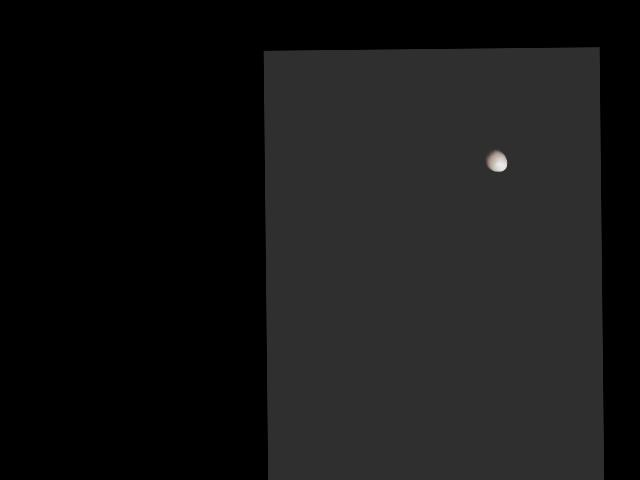egg: (484, 148, 507, 171)
